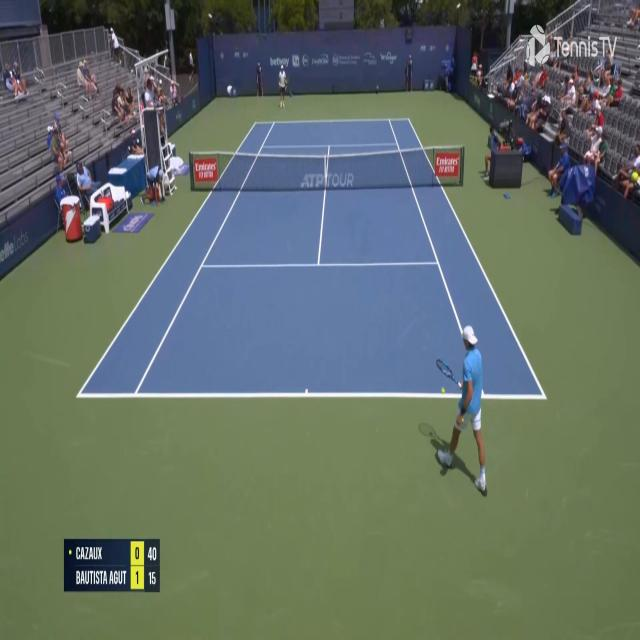tennis-player: (434, 321, 490, 496), (277, 64, 289, 109)
